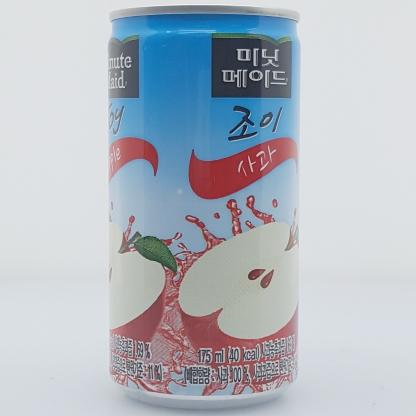-------175ml: (107, 3, 301, 410)
